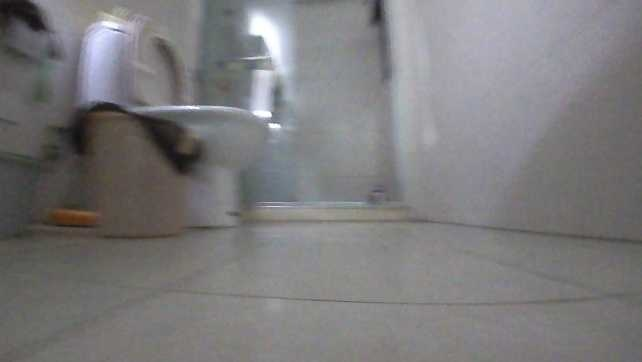toilet: (66, 9, 265, 229)
trash_can: (67, 99, 193, 237)
